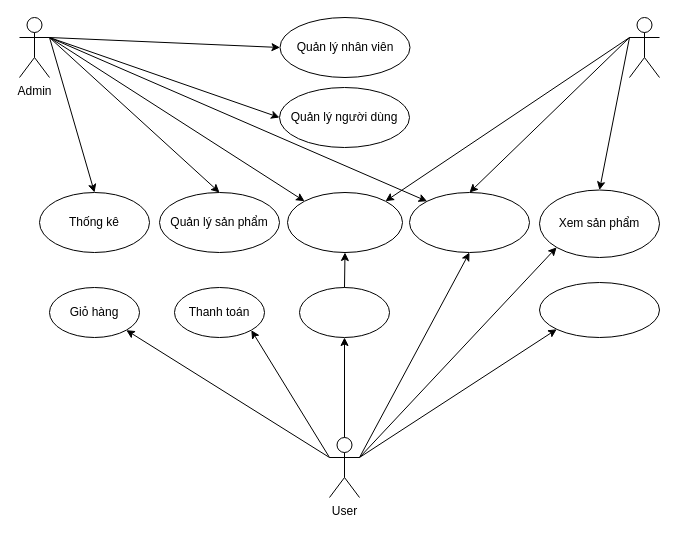
The diagram is 677 pixels wide and 536 high, and some of its shapes have lost their labels. Here are the shapes that lost their labels. From the top down, the centre of each, then its label:
At point (644, 47): "Staff".
At point (344, 222): "Đăng nhập".
At point (469, 222): "Quản lý đơn hàng".
At point (344, 312): "Đăng ký".
At point (599, 310): "Quản lý tài khoản".
